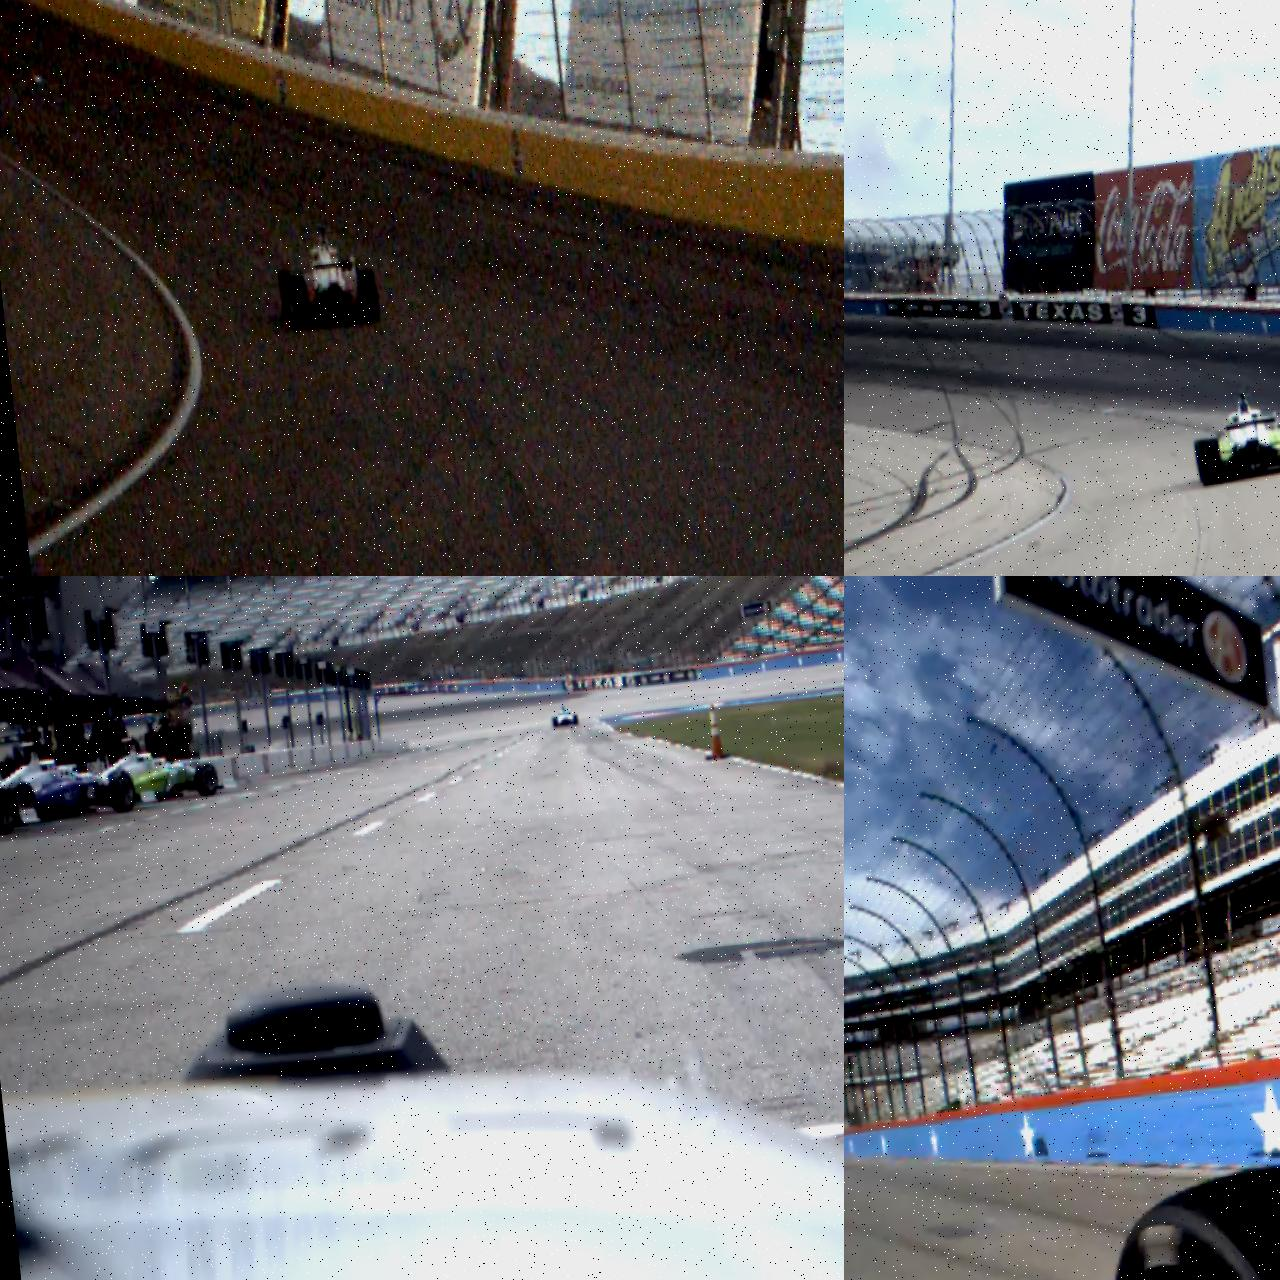AV: (0, 730, 138, 830), (272, 217, 382, 333), (87, 728, 222, 818), (1189, 384, 1280, 486), (551, 702, 579, 729)
Wheel: (1194, 437, 1224, 486), (11, 781, 40, 825), (288, 275, 312, 331), (108, 771, 137, 813), (359, 268, 381, 324), (278, 268, 295, 321), (0, 784, 18, 837), (195, 763, 219, 797), (552, 716, 559, 728), (573, 715, 579, 726)
